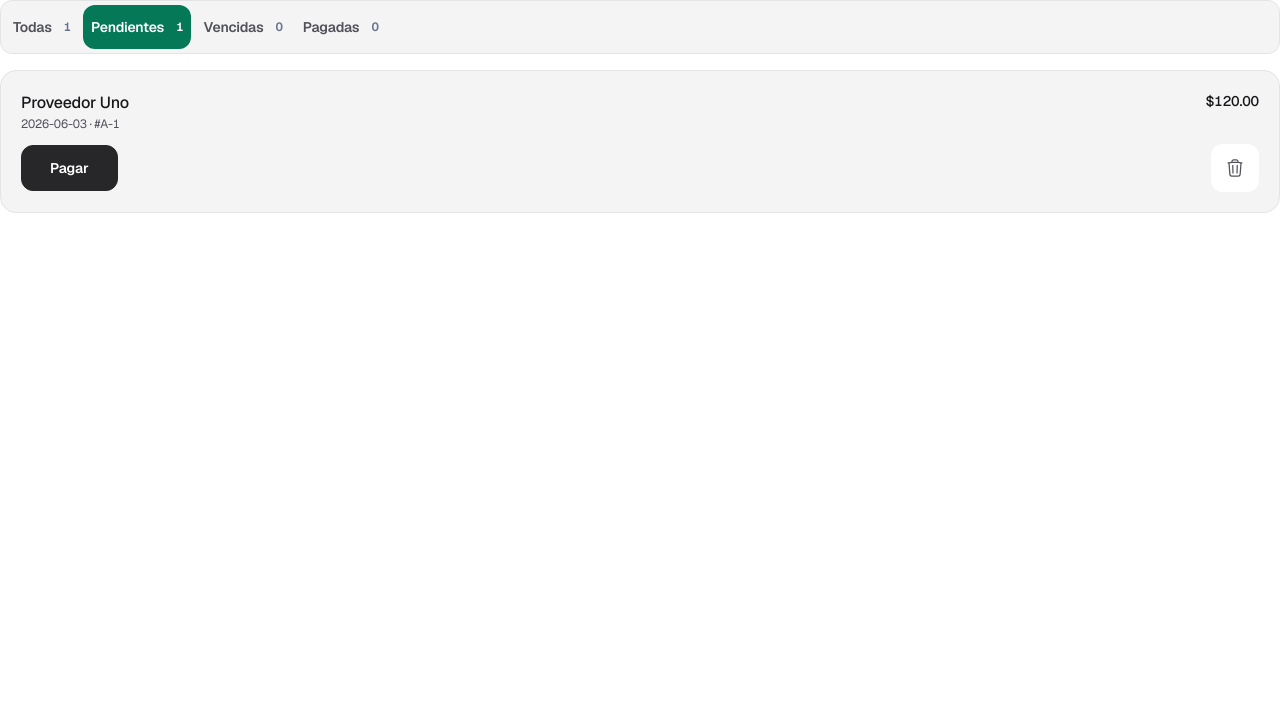
InvoiceList › asks for confirmation before paying, then reverts when the action fails
Click the button "Pagar". click: click(69, 168)
box: [21,145,118,191]
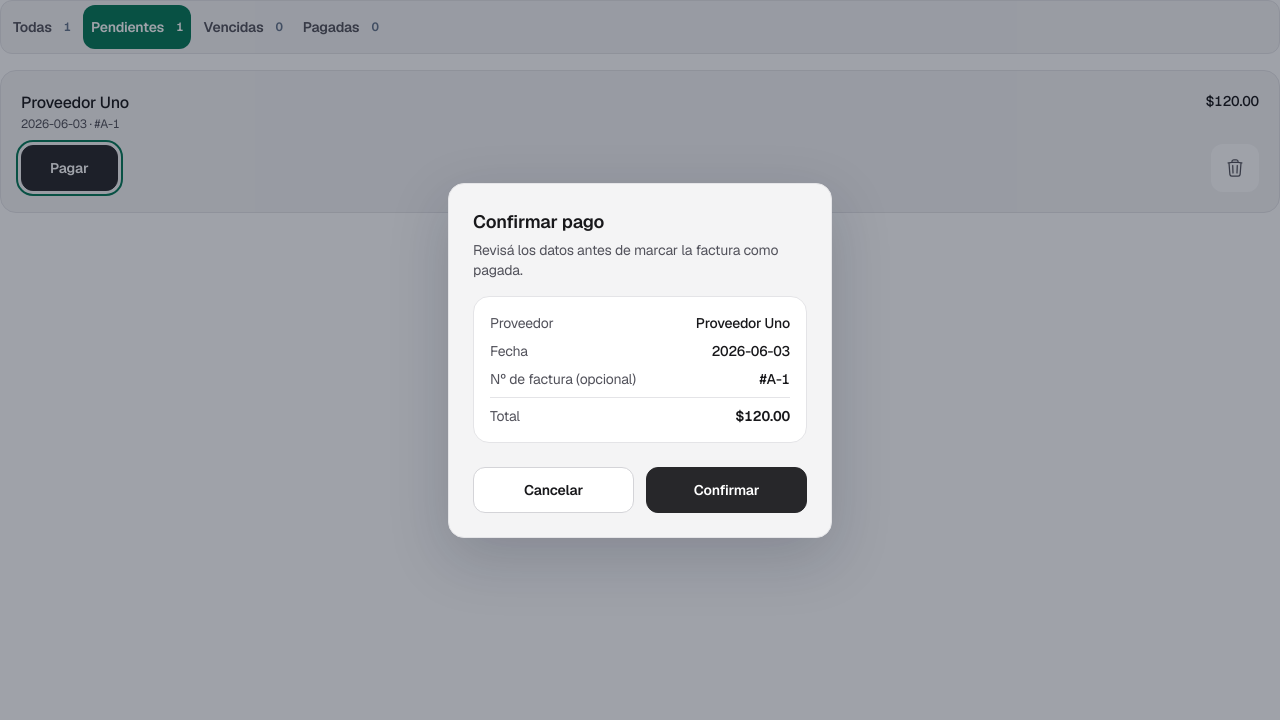
Expected: the text "$120.00" is shown 2 times, [1206,91,1259,111]; [735,406,790,426]
Expected: the heading "Confirmar pago" is shown, [473,210,604,232]
Click the button "Confirmar". click: click(726, 490)
box: [646,466,807,512]
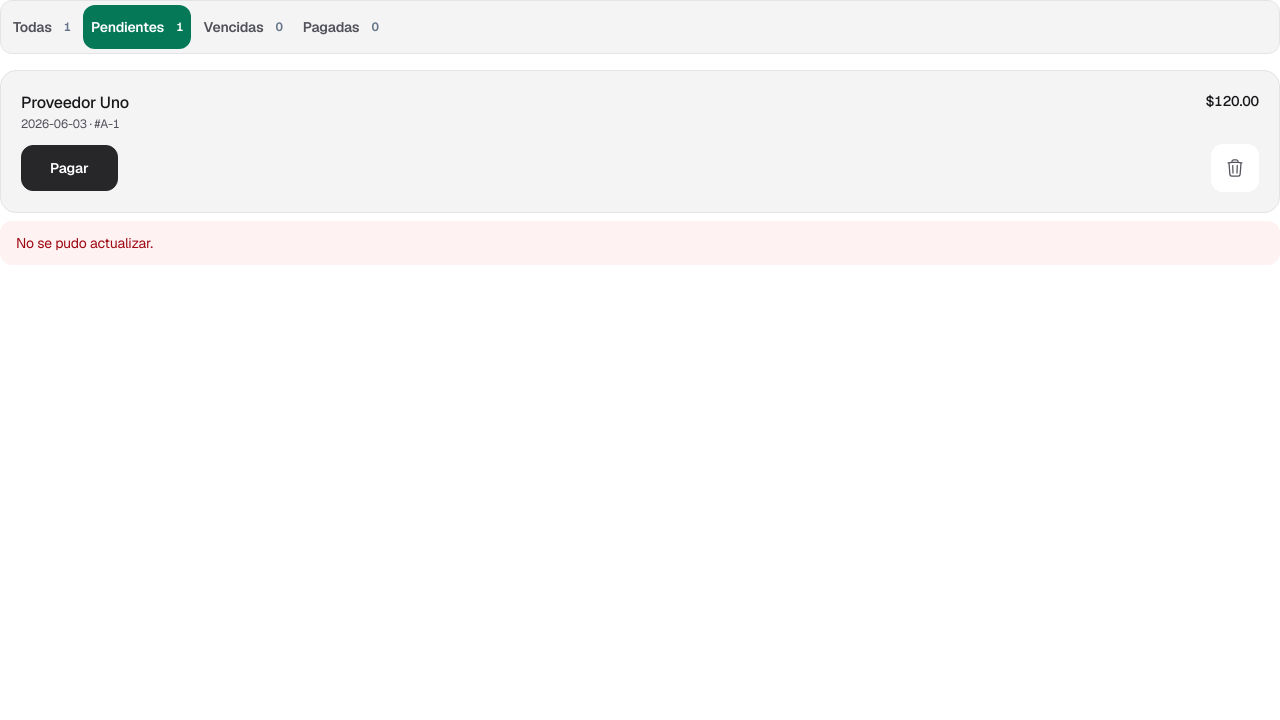
Expected: the button "Pagar" is shown, [21,145,118,191]
Expected: the text "No se pudo actualizar." is shown, [0,221,1279,265]
